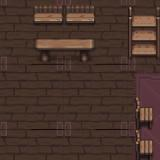Obstacle: (27, 32, 102, 64), (129, 0, 160, 64), (128, 95, 160, 129), (128, 129, 160, 160), (33, 4, 65, 26), (65, 4, 96, 26)
